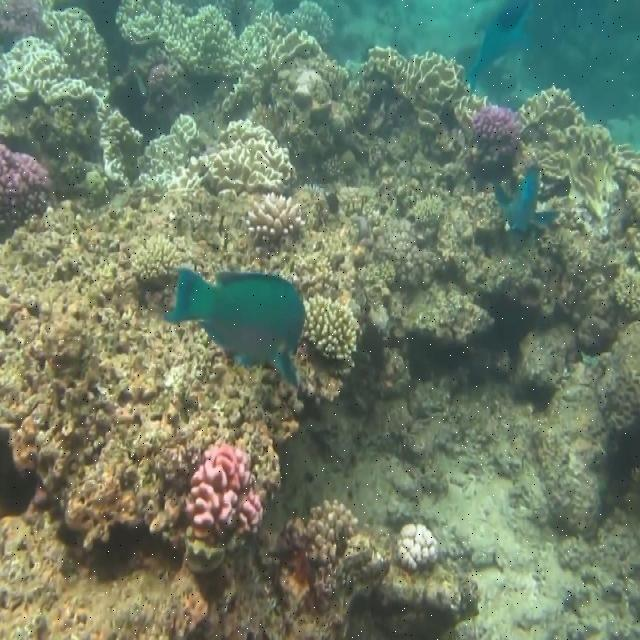fish: (163, 268, 306, 386), (497, 169, 560, 233)
reefs: (116, 1, 334, 111), (96, 103, 297, 192), (517, 89, 629, 220), (1, 9, 110, 136), (368, 47, 489, 131), (183, 445, 264, 545), (0, 144, 50, 244), (305, 499, 359, 564), (246, 192, 308, 248), (304, 295, 359, 358), (133, 232, 182, 278), (397, 523, 438, 569), (474, 105, 514, 143)
